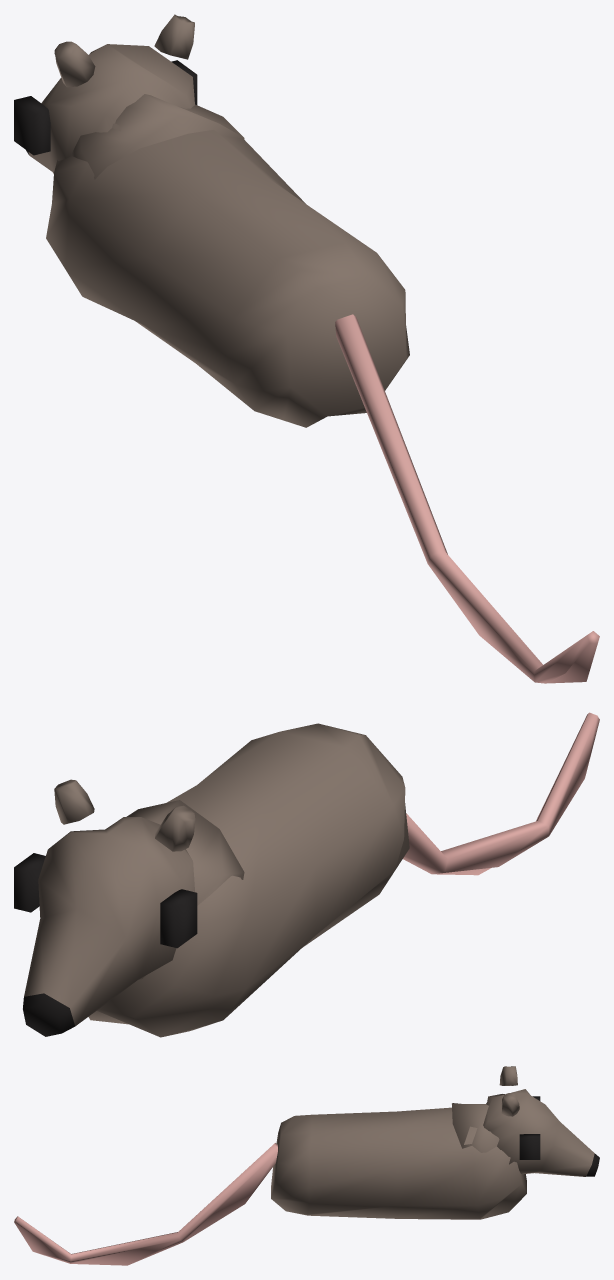
File: animal_rat.obj
3 views of the same model, one above another, from view 1: azimuth 30°, elevation 25°; view 2: azimuth 150°, elevation 25°; view 3: azimuth 270°, elevation 25° (orthographic). The views are drawn at different scales.
Parts seen in each view (by area): view 1: animal_rat_component_01_stage_1, animal_rat_component_08_stage_1, animal_rat_component_03_stage_1, animal_rat_component_02_stage_1, animal_rat_component_04_stage_1, animal_rat_component_06_stage_1, animal_rat_component_07_stage_1; view 2: animal_rat_component_01_stage_1, animal_rat_component_03_stage_1, animal_rat_component_08_stage_1, animal_rat_component_02_stage_1, animal_rat_component_04_stage_1, animal_rat_component_05_stage_1, animal_rat_component_06_stage_1, animal_rat_component_07_stage_1; view 3: animal_rat_component_01_stage_1, animal_rat_component_08_stage_1, animal_rat_component_03_stage_1, animal_rat_component_02_stage_1, animal_rat_component_05_stage_1, animal_rat_component_07_stage_1, animal_rat_component_06_stage_1.
Part boxes in pixels (x1,y1,x2,y2): animal_rat_component_01_stage_1: (46,121,409,427); animal_rat_component_08_stage_1: (335,314,599,683); animal_rat_component_03_stage_1: (26,44,194,173); animal_rat_component_02_stage_1: (71,94,244,179); animal_rat_component_04_stage_1: (14,96,50,155); animal_rat_component_06_stage_1: (54,41,95,87); animal_rat_component_07_stage_1: (154,14,194,59); animal_rat_component_01_stage_1: (88,723,409,1037); animal_rat_component_03_stage_1: (23,817,194,1036); animal_rat_component_08_stage_1: (403,712,599,875); animal_rat_component_02_stage_1: (126,800,244,979); animal_rat_component_04_stage_1: (160,889,197,948); animal_rat_component_05_stage_1: (14,853,45,912); animal_rat_component_06_stage_1: (155,805,195,851); animal_rat_component_07_stage_1: (54,779,94,824); animal_rat_component_01_stage_1: (271,1107,526,1219); animal_rat_component_08_stage_1: (14,1143,277,1265); animal_rat_component_03_stage_1: (483,1089,599,1176); animal_rat_component_02_stage_1: (452,1103,522,1175); animal_rat_component_05_stage_1: (519,1134,540,1159); animal_rat_component_07_stage_1: (501,1093,519,1116); animal_rat_component_06_stage_1: (499,1066,517,1085).
Bounding box in the file's own units: 0.1686 × 0.3117 × 0.9035.
